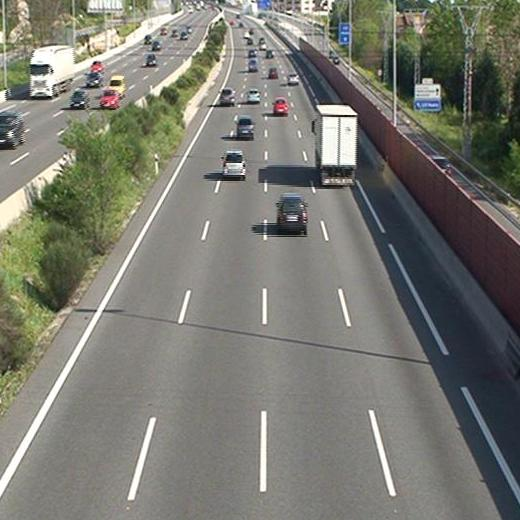car: (276, 194, 308, 231), (222, 150, 245, 179), (237, 116, 255, 139), (219, 88, 235, 105), (274, 98, 288, 113), (287, 73, 300, 85), (247, 90, 260, 102), (267, 67, 279, 79)
small-truck: (312, 106, 356, 187)
van: (247, 58, 258, 71)
